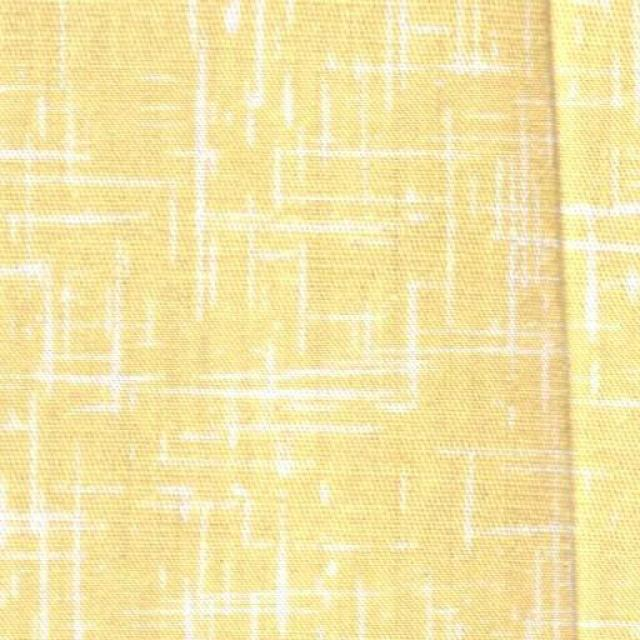broken_yarn: (537, 2, 587, 640)
